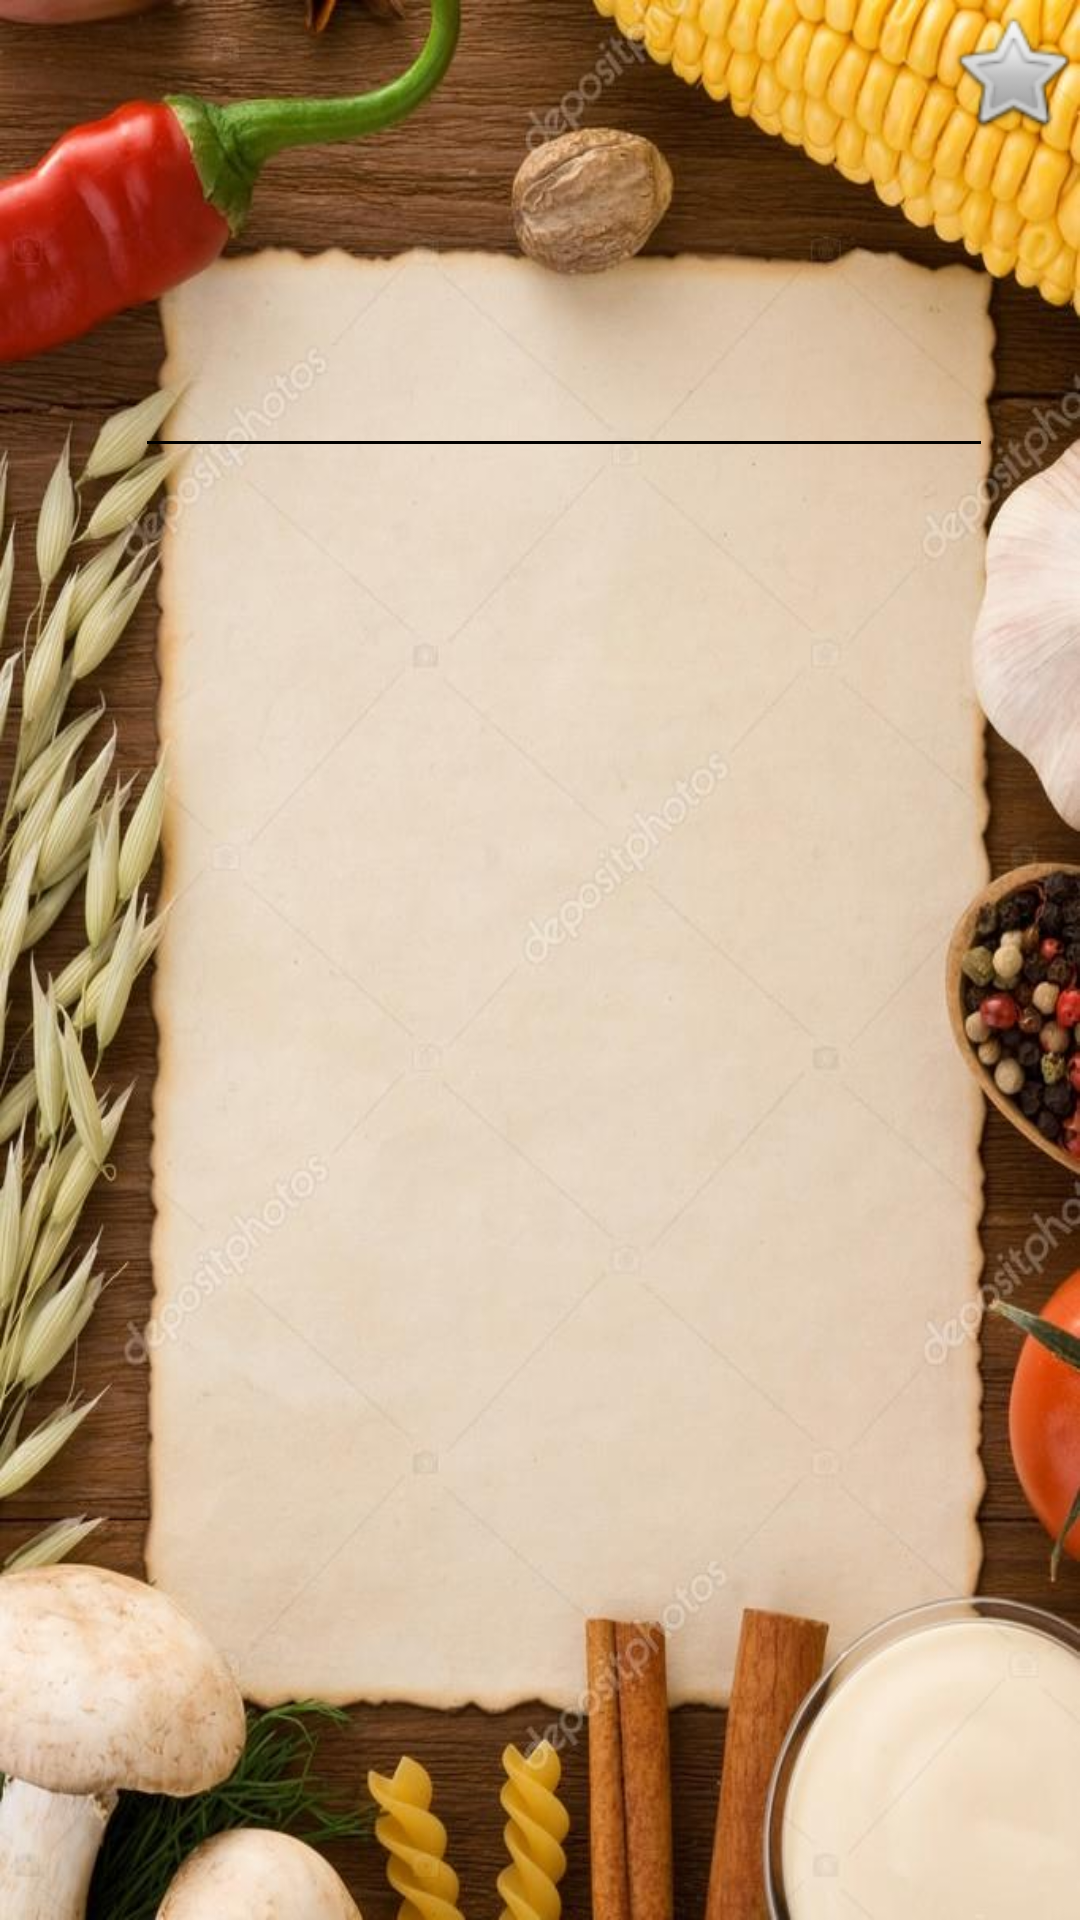

Where to tap for icons on this 1080*1920 app screen, as (x,y):
star off: (1012,72)
